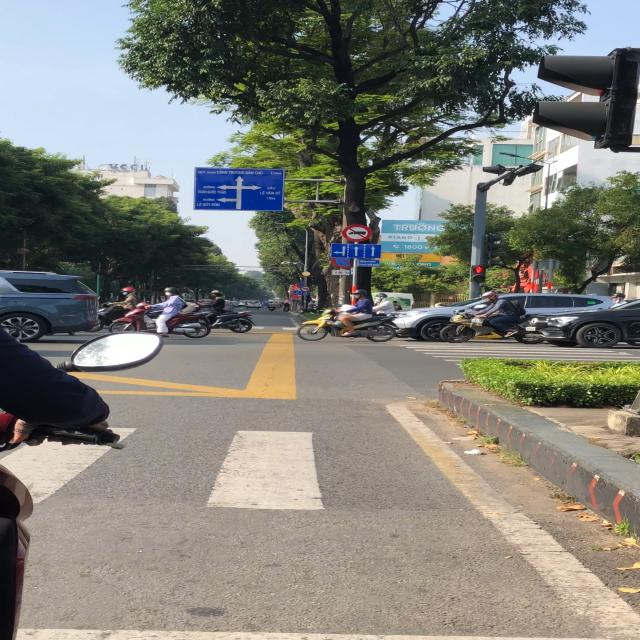Bien bao cam xe so-mi ro-mooc: (340, 223, 372, 244), (299, 286, 312, 293)
